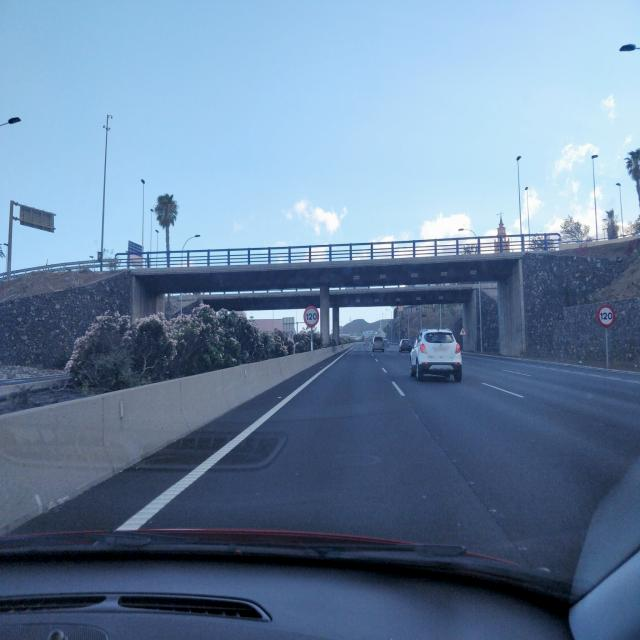car: (409, 328, 463, 382), (398, 337, 414, 353), (372, 336, 386, 353)
